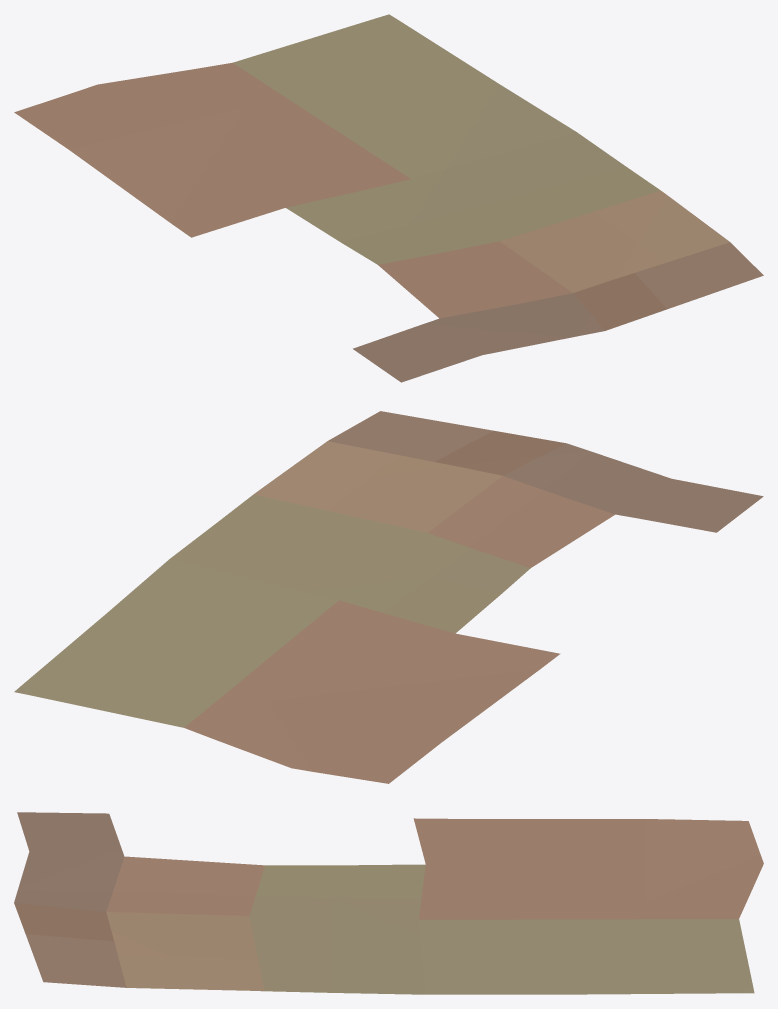
File: farm_25_32_soil.glb
3 renders of one model, top to bottom at view 1: azimuth 30°, elevation 25°; view 2: azimuth 150°, elevation 25°; view 3: azimuth 270°, elevation 25°, orthographic. The views are drawn at different scales.
Visible parts, largest first — view 1: geometry_0; view 2: geometry_0; view 3: geometry_0.
Part boxes in pixels (left/top/right/bottom): geometry_0: left=14, top=14, right=763, bottom=382; geometry_0: left=14, top=411, right=763, bottom=783; geometry_0: left=14, top=812, right=763, bottom=994.
Size of the model in its own units: 109 by 4.27 by 190.
